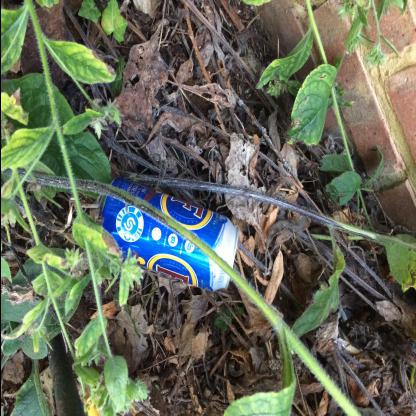metal: (96, 177, 239, 293)
